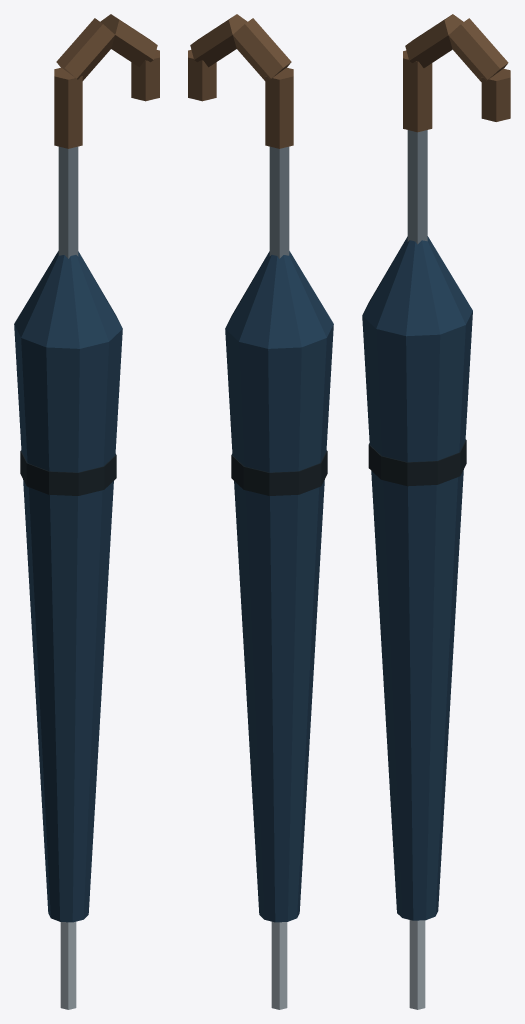
Rendered from b17_furled_walking_umbrella.glb.
3 views of the same model, side by side, from view 1: azimuth 30°, elevation 25°; view 2: azimuth 150°, elevation 25°; view 3: azimuth 330°, elevation 25° (orthographic).
Parts seen in each view (by area): view 1: b17_furled_walking_umbrella; view 2: b17_furled_walking_umbrella; view 3: b17_furled_walking_umbrella.
Boxes of the visible parts, x1,y1,x2,y2 form: b17_furled_walking_umbrella: [14, 14, 159, 1009]; b17_furled_walking_umbrella: [188, 14, 333, 1009]; b17_furled_walking_umbrella: [362, 14, 510, 1009].
Bounding box in the file's own units: 0.126 × 0.8485 × 0.0818.
